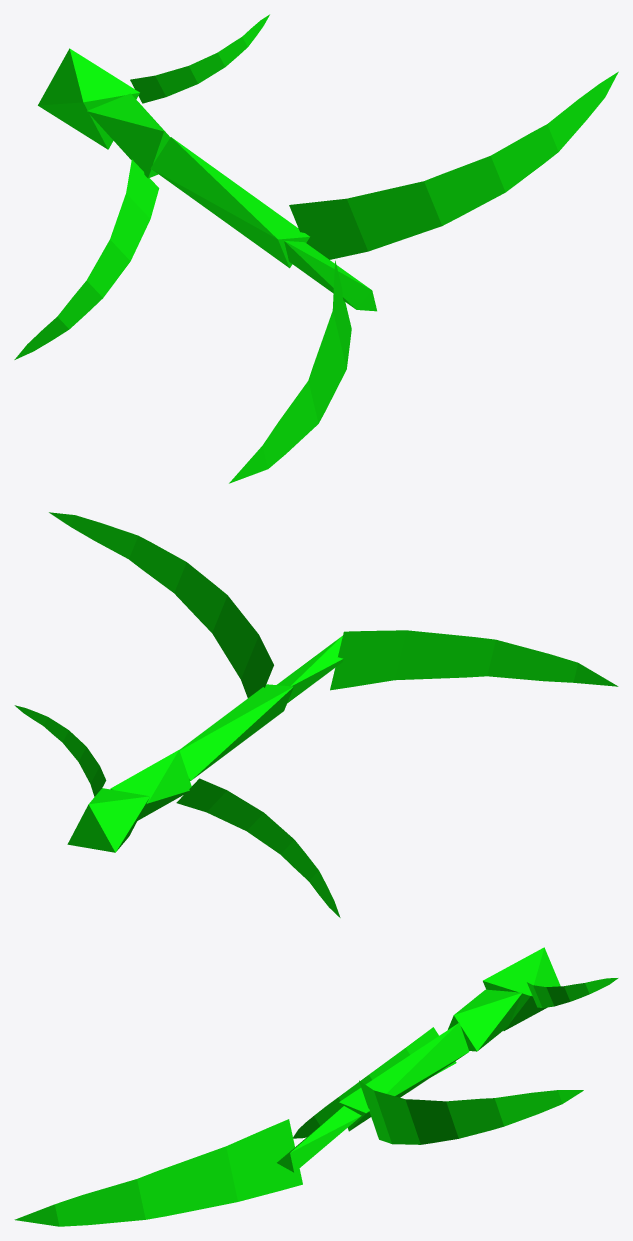
The model's file is usm_20_Beer_2018-07-29_3.obj.
3 views of the same model, one above another, from view 1: azimuth 30°, elevation 25°; view 2: azimuth 150°, elevation 25°; view 3: azimuth 330°, elevation 25° (orthographic). The views are drawn at different scales.
Visible parts, largest first — view 1: vid_8, vid_7, vid_10, vid_6, vid_3, vid_5, vid_4, vid_9; view 2: vid_10, vid_8, vid_6, vid_7, vid_3, vid_5, vid_4, vid_9; view 3: vid_10, vid_8, vid_7, vid_5, vid_3, vid_9, vid_6, vid_4.
Part boxes in pixels (x1=…): vid_8: x1=289, y1=71, x2=618, y2=259; vid_7: x1=150, y1=137, x2=309, y2=268; vid_10: x1=229, y1=260, x2=351, y2=483; vid_6: x1=14, y1=159, x2=159, y2=359; vid_3: x1=38, y1=48, x2=139, y2=149; vid_5: x1=87, y1=93, x2=170, y2=178; vid_4: x1=130, y1=14, x2=269, y2=103; vid_9: x1=284, y1=240, x2=376, y2=311; vid_10: x1=330, y1=630, x2=618, y2=690; vid_8: x1=49, y1=512, x2=273, y2=697; vid_6: x1=176, y1=778, x2=340, y2=917; vid_7: x1=179, y1=684, x2=293, y2=780; vid_3: x1=67, y1=788, x2=149, y2=852; vid_5: x1=110, y1=750, x2=191, y2=820; vid_4: x1=14, y1=705, x2=106, y2=796; vid_9: x1=277, y1=635, x2=343, y2=702; vid_10: x1=14, y1=1119, x2=302, y2=1226; vid_8: x1=359, y1=1080, x2=583, y2=1144; vid_7: x1=339, y1=1022, x2=469, y2=1131; vid_5: x1=448, y1=989, x2=522, y2=1051; vid_3: x1=483, y1=947, x2=560, y2=1030; vid_9: x1=277, y1=1106, x2=361, y2=1172; vid_6: x1=293, y1=1027, x2=456, y2=1138; vid_4: x1=527, y1=978, x2=618, y2=1007.
Size of the model in its own units: 26.91 by 12.97 by 34.38.
